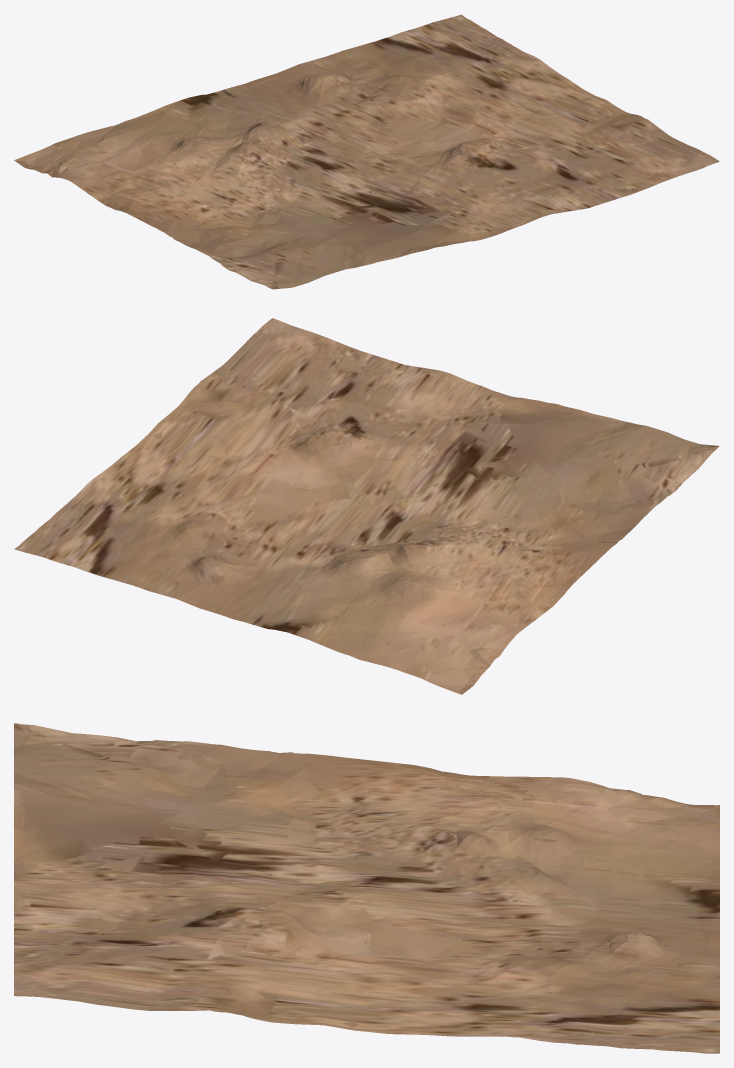
3 views of the same model, one above another, from view 1: azimuth 30°, elevation 25°; view 2: azimuth 150°, elevation 25°; view 3: azimuth 270°, elevation 25° (orthographic). The views are drawn at different scales.
Bounding box in the file's own units: 2.09 × 0.3509 × 2.09.
2 materials, 2 textured.
